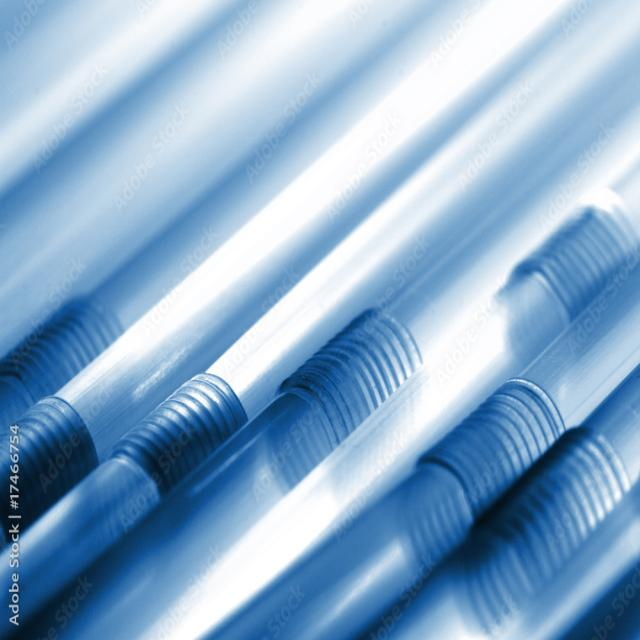plastic: (365, 346, 640, 640)
